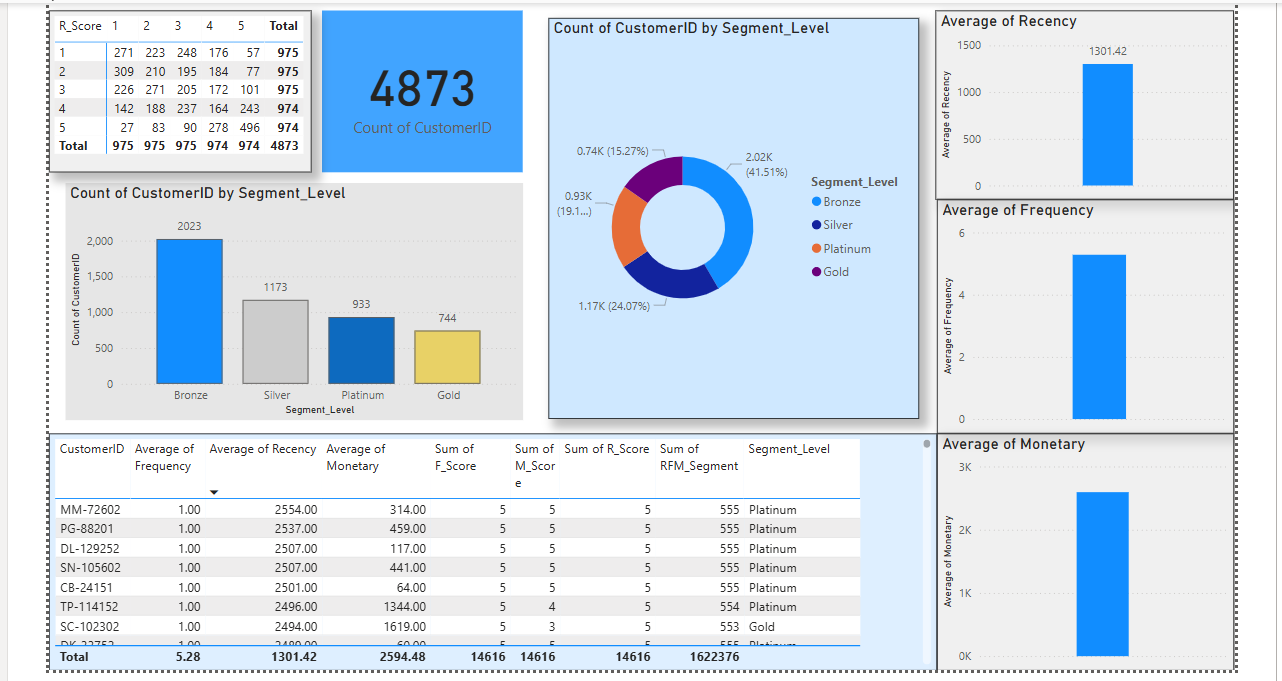

The dashboard page shown, as its layout file describes it:
{"tool":"powerbi","page":{"name":"Page 1","canvas":[1280,720],"ordinal":0},"visuals":[{"type":"card","fields":{"Values":["Count(RFM_Table.CustomerID)"]},"box":[294.7,8.1,217,174.9],"z":0},{"type":"clusteredColumnChart","fields":{"Y":["Avg(RFM_Table.Recency)"]},"box":[957,8.1,322.2,204],"z":1000},{"type":"clusteredColumnChart","fields":{"Y":["Avg(RFM_Table.Frequency)"]},"box":[958.6,212.1,320.6,252.6],"z":2000},{"type":"clusteredColumnChart","fields":{"Y":["Avg(RFM_Table.Monetary)"]},"box":[958.6,464.7,320.6,255.8],"z":3000},{"type":"clusteredColumnChart","fields":{"Y":["CountNonNull(RFM_Table.CustomerID)"],"Category":["RFM_Table.Segment_Level"]},"box":[17.8,194.3,493.9,255.8],"z":4000},{"type":"donutChart","fields":{"Y":["CountNonNull(RFM_Table.CustomerID)"],"Category":["RFM_Table.Segment_Level"]},"box":[539.2,16.2,399.9,432.3],"z":5000},{"type":"pivotTable","fields":{"Values":["CountNonNull(RFM_Table.CustomerID)"],"Rows":["RFM_Table.R_Score"],"Columns":["RFM_Table.F_Score"]},"box":[0,8.1,283.4,174.9],"z":6000},{"type":"tableEx","fields":{"Values":["RFM_Table.CustomerID","Avg(RFM_Table.Frequency)","Avg(RFM_Table.Recency)","Avg(RFM_Table.Monetary)","Sum(RFM_Table.F_Score)","Sum(RFM_Table.M_Score)","Sum(RFM_Table.R_Score)","Sum(RFM_Table.RFM_Segment)","RFM_Table.Segment_Level"]},"box":[0,464.7,958.6,255.8],"z":7000}]}

Visuals, with their boxes in screenshot pixels (x1, y1, x2, y2):
card - Count(RFM_Table.CustomerID): (315,8,517,171)
clusteredColumnChart - Avg(RFM_Table.Recency): (933,8,1233,198)
clusteredColumnChart - Avg(RFM_Table.Frequency): (934,198,1233,433)
clusteredColumnChart - Avg(RFM_Table.Monetary): (934,433,1233,672)
clusteredColumnChart - CountNonNull(RFM_Table.CustomerID) x RFM_Table.Segment_Level: (57,181,517,420)
donutChart - CountNonNull(RFM_Table.CustomerID) x RFM_Table.Segment_Level: (543,15,916,418)
pivotTable - CountNonNull(RFM_Table.CustomerID) x RFM_Table.R_Score: (40,8,304,171)
tableEx - RFM_Table.CustomerID x Avg(RFM_Table.Frequency): (40,433,934,672)
